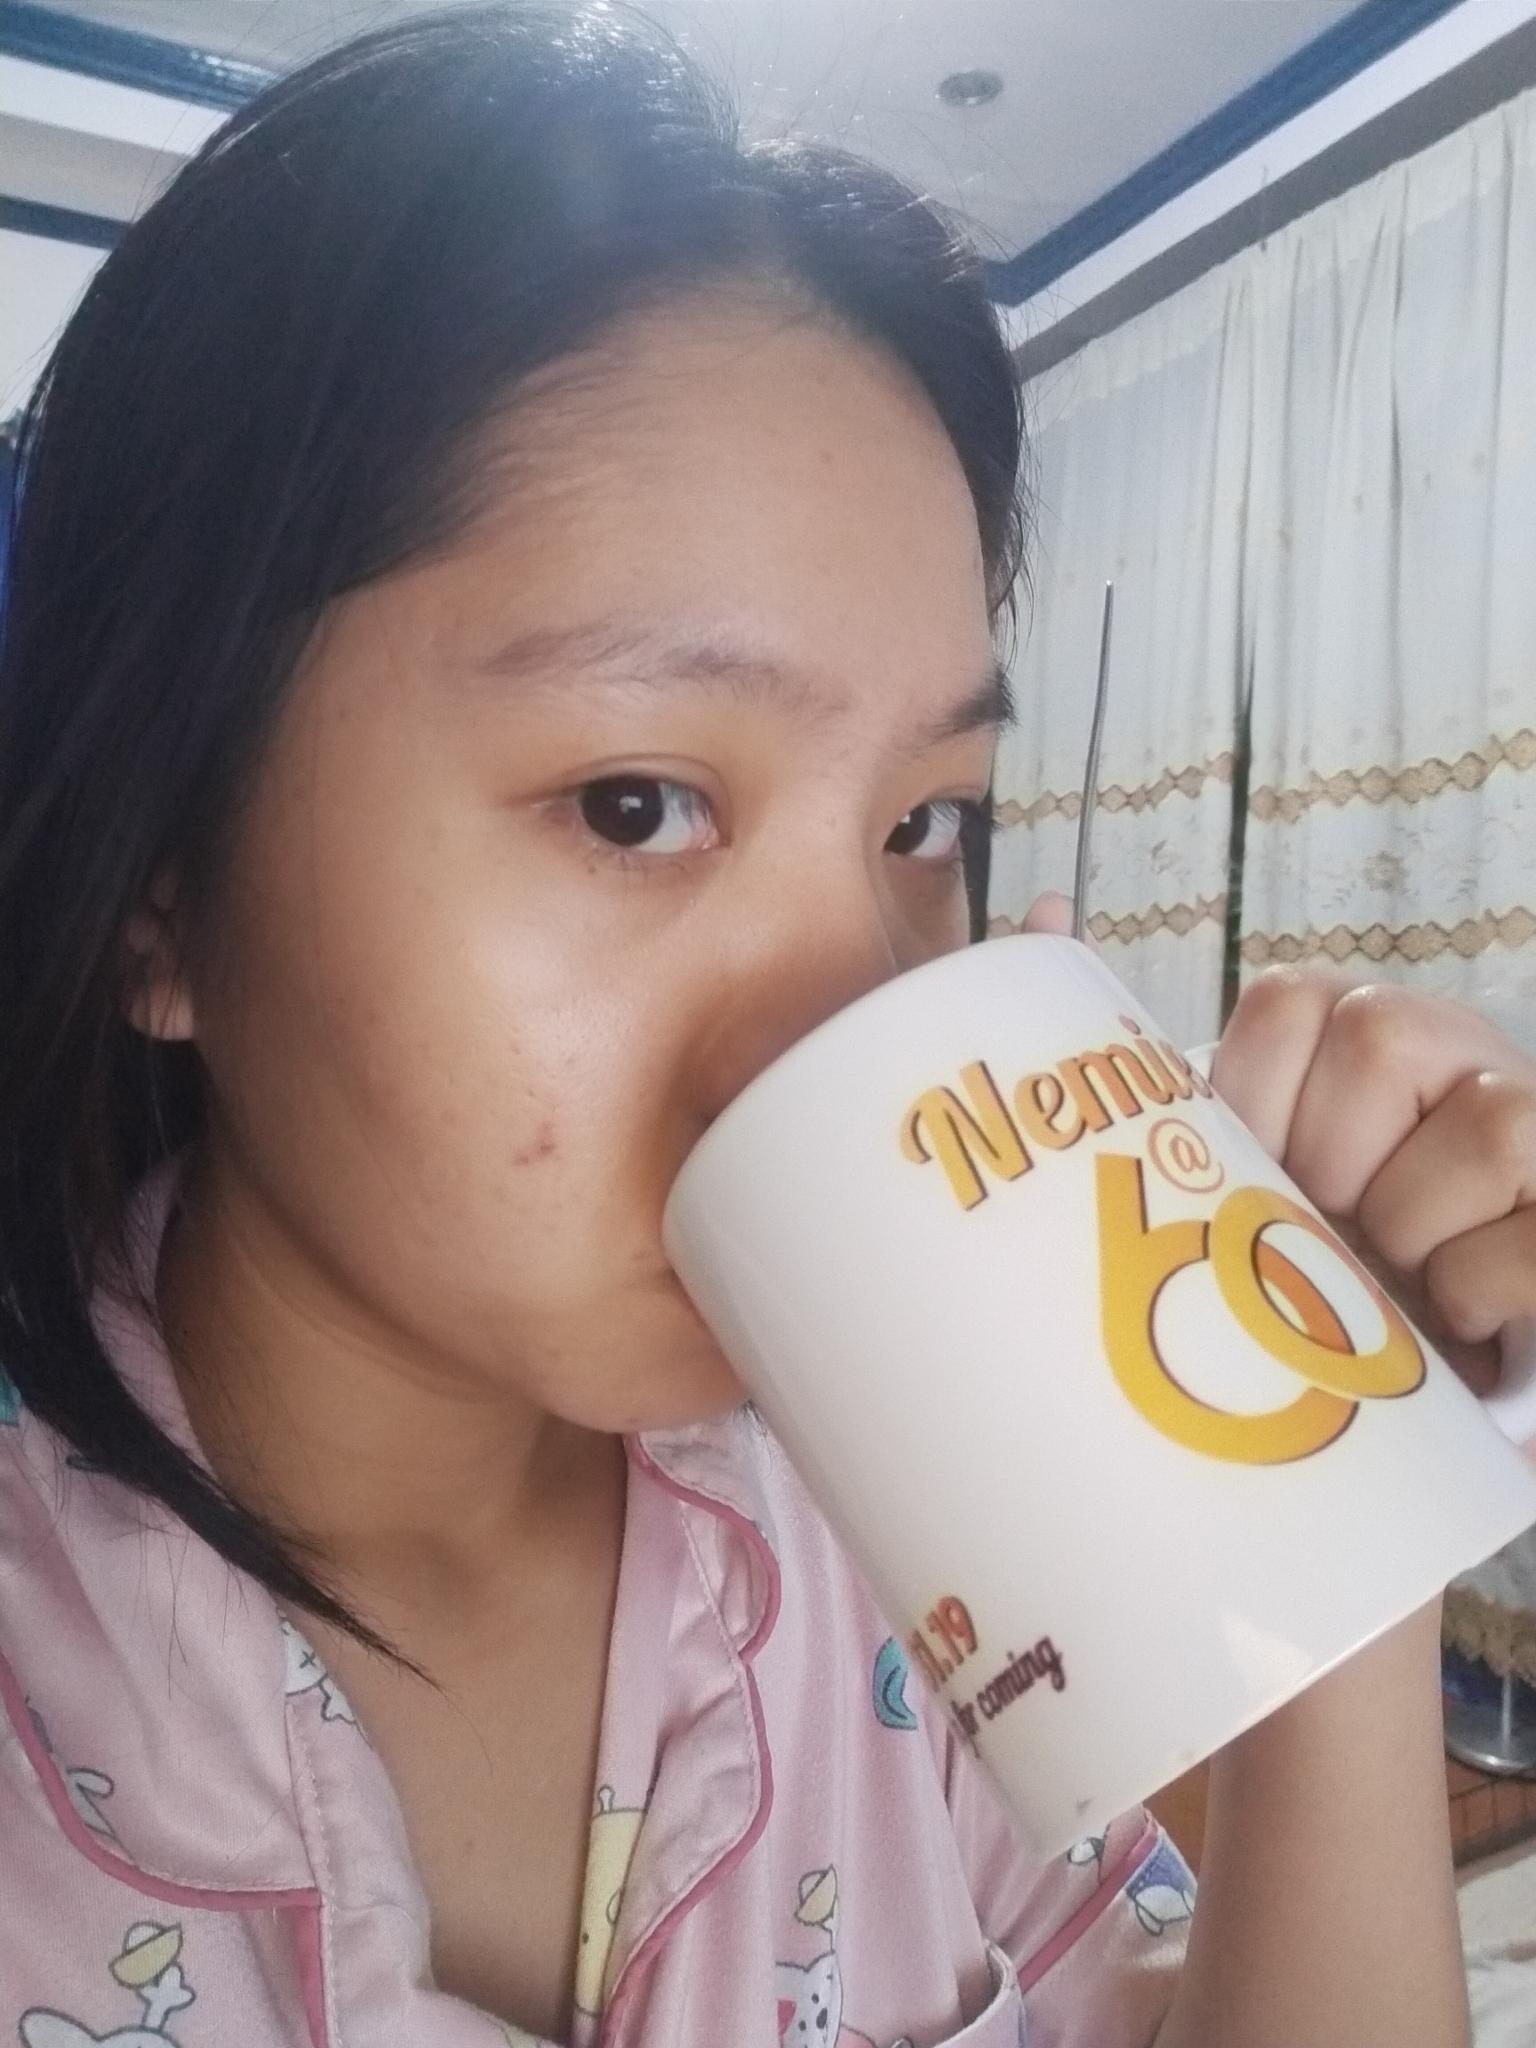Coffee Mug: (663, 935, 1536, 1863)
